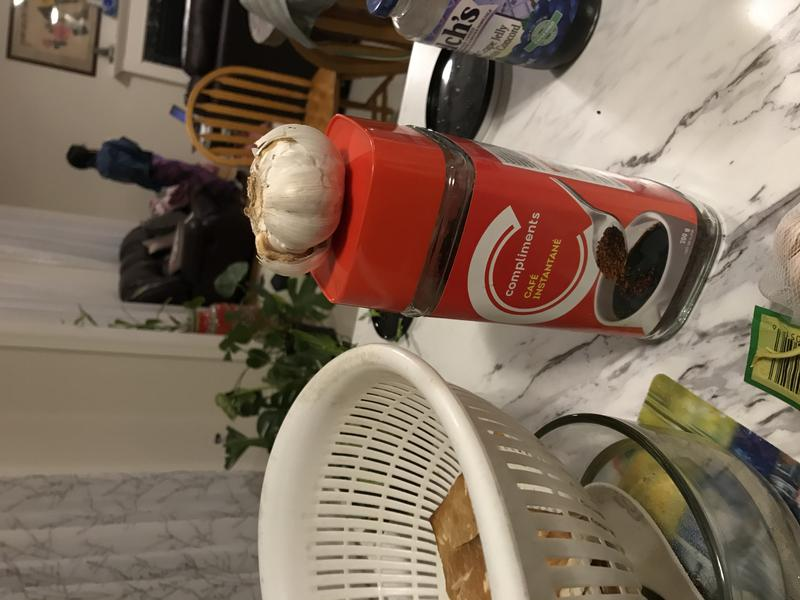garlic: (234, 121, 351, 284)
